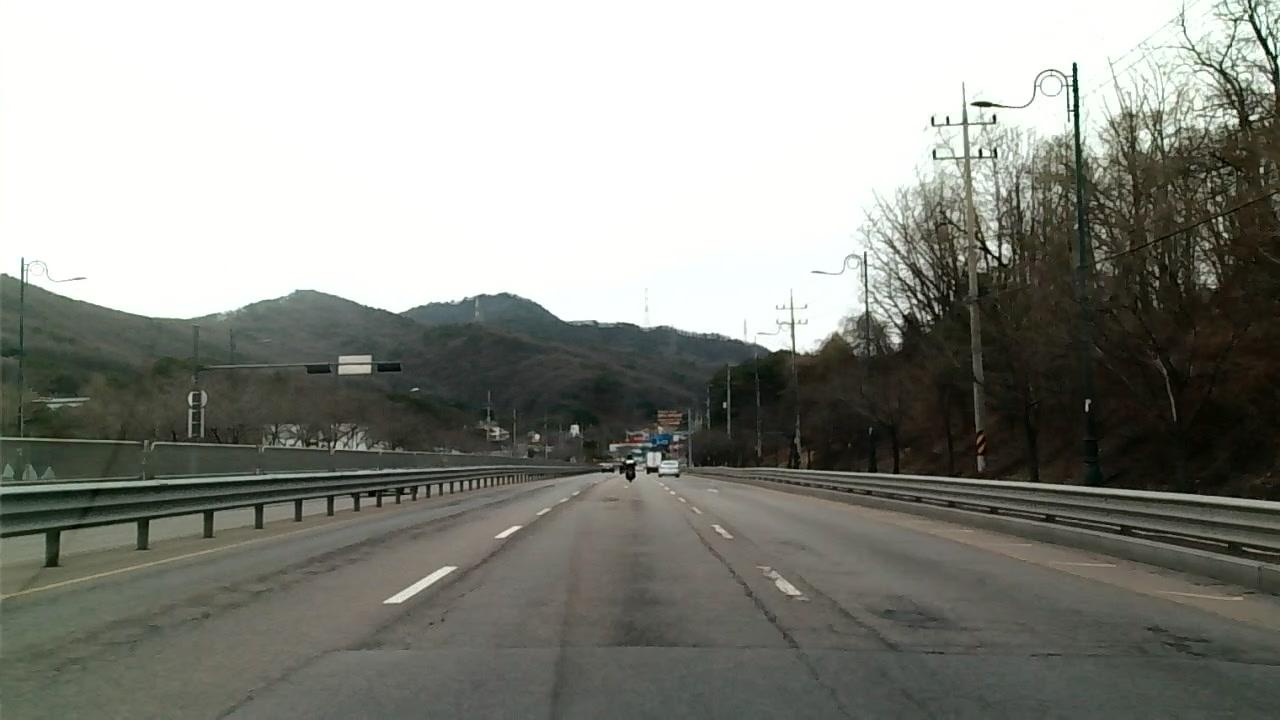erosion: (69, 587, 236, 666), (237, 543, 363, 597), (872, 589, 964, 641), (364, 516, 438, 544)
hcrack: (797, 570, 945, 657)
pothole: (1143, 616, 1206, 661)
vcrack: (688, 520, 845, 714), (335, 549, 497, 653)
